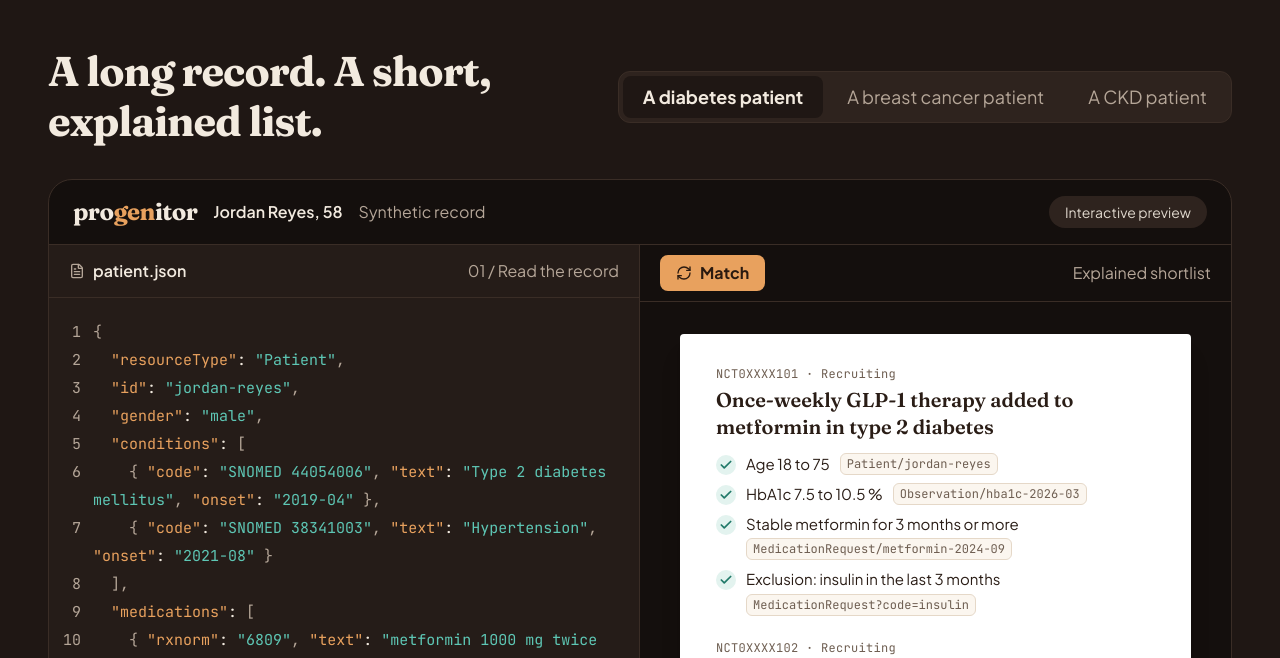
Scenario: SegmentedControl in the preview › switches the fixture in both panes
Check: the text "Jordan Reyes, 58" is shown, box x1=213 y1=200 x2=343 y2=224
Click the tab "A CKD patient" at (1148, 97), box x1=1068 y1=76 x2=1227 y2=118
(page scrolled)
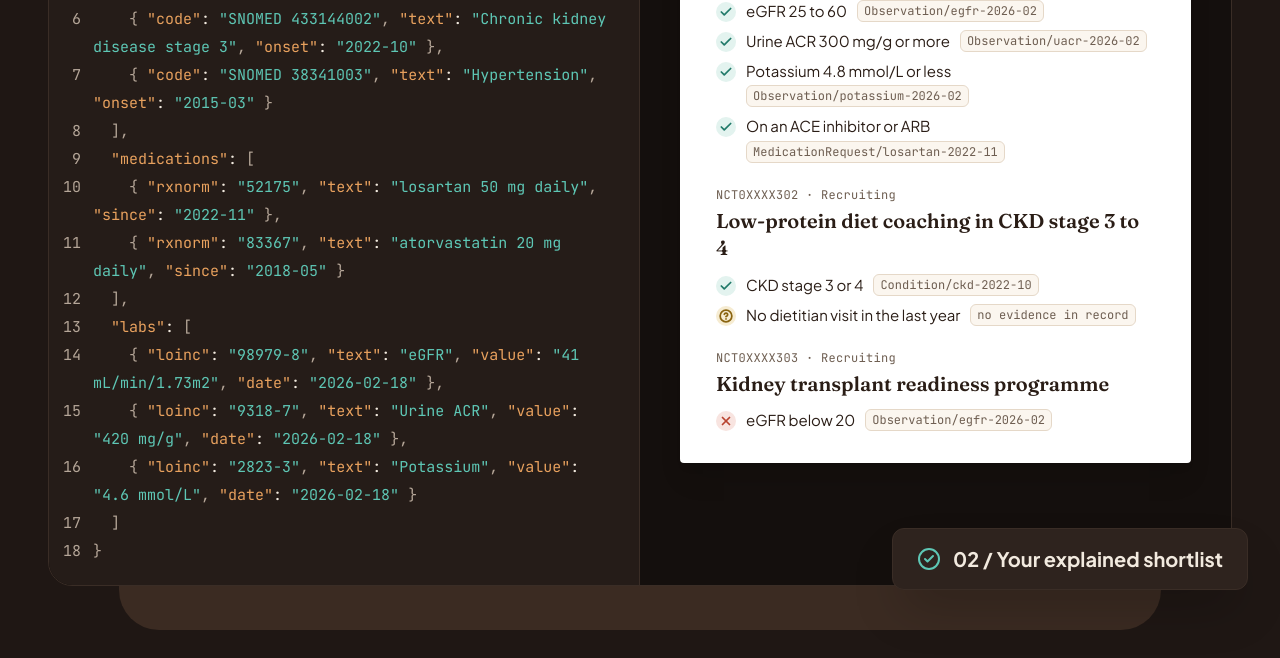
Check: the heading "Kidney transplant readiness programme" is shown, box x1=716 y1=370 x2=1155 y2=397
Check: the text "Jordan Reyes, 58" is gone
